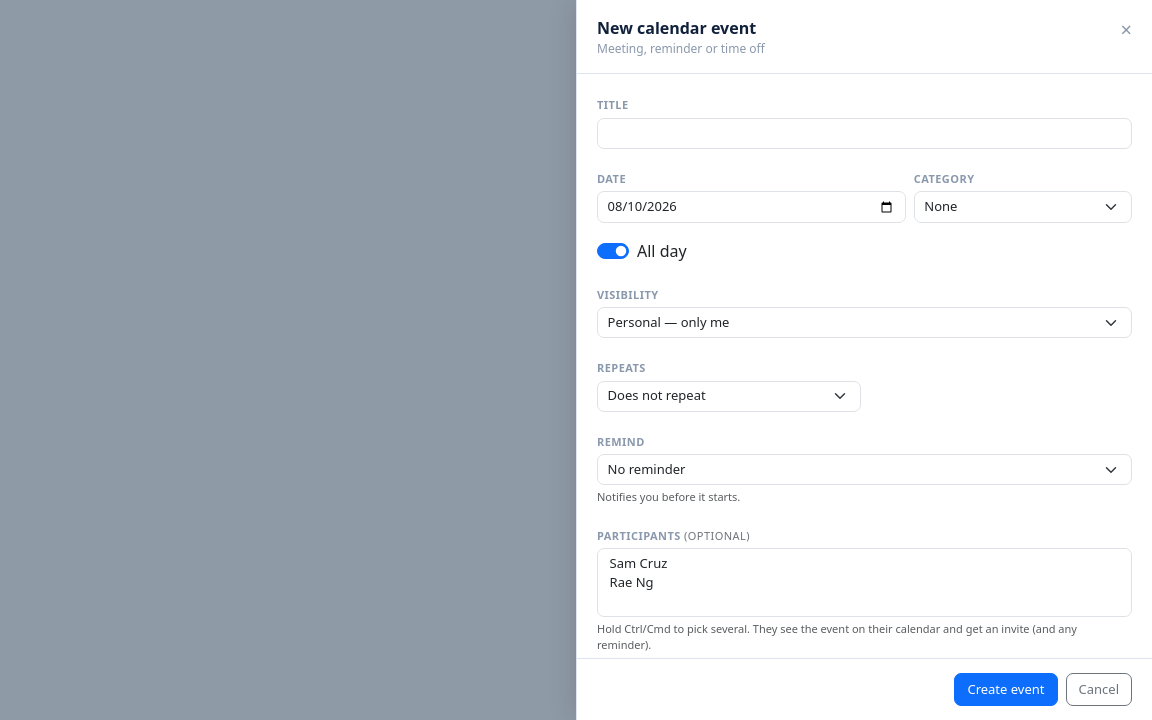
NewCalendarEventModal › shows the role picker only for a role-scoped event
Expected: the field labelled "Which role" is not shown
Select "A role — everyone with a role" in the dropdown labelled "Visibility" at (864, 323), box [597,307,1132,338]
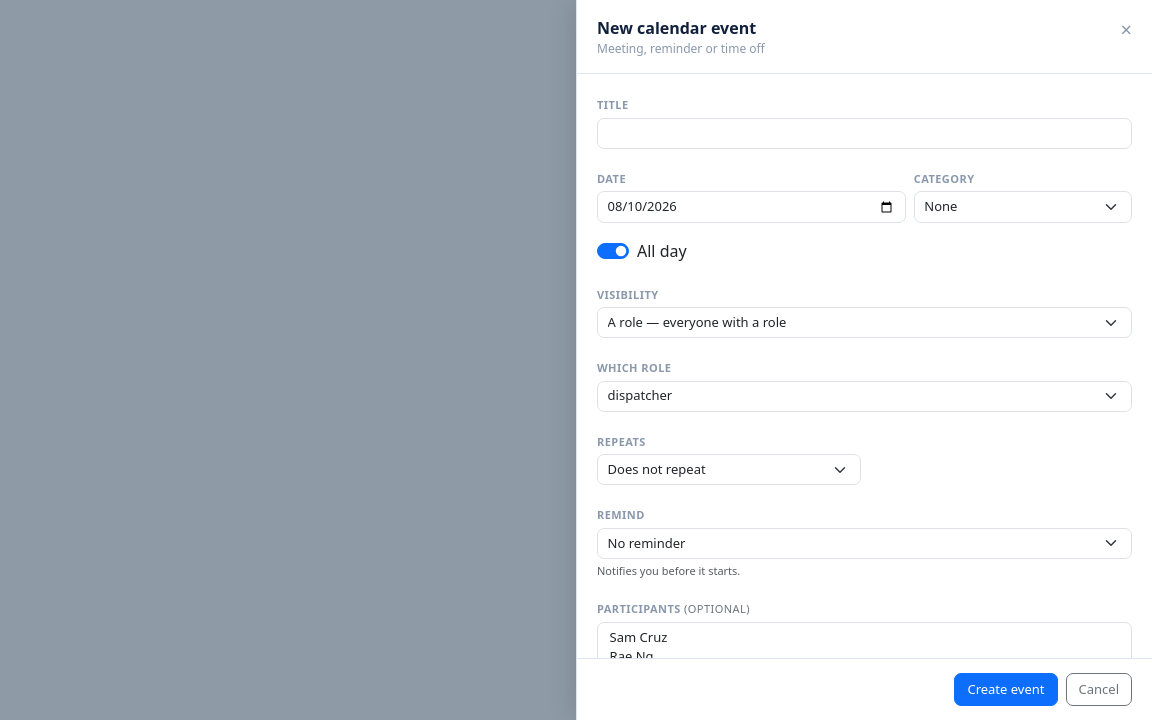
Expected: the dropdown labelled "Which role" is shown, [597,381,1132,412]
